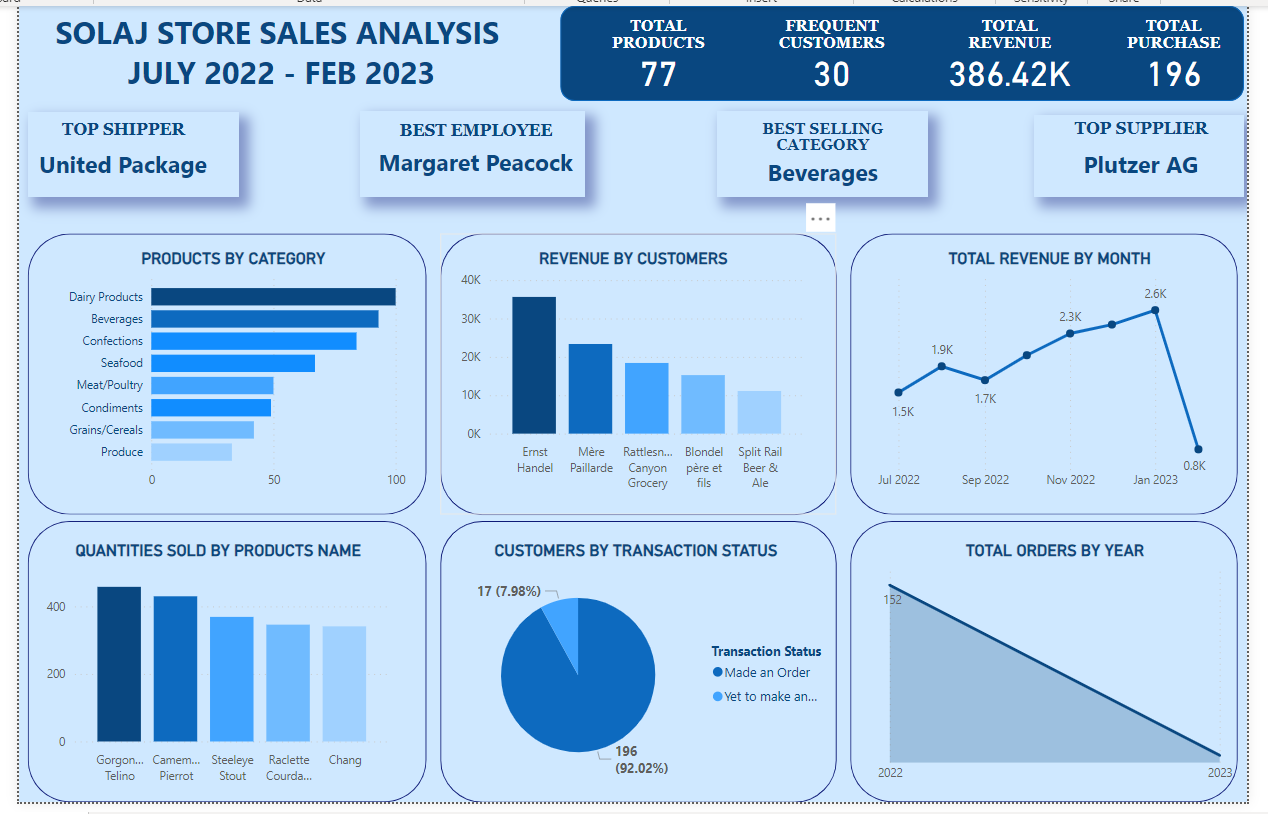

The page's visual inventory and layout, read from the dashboard file:
{"tool":"powerbi","page":{"name":"Page 1","canvas":[1280,830],"ordinal":0},"visuals":[{"type":"shape","box":[564.2,0,712.7,99],"z":0},{"type":"card","title":"TOTAL PRODUCTS","fields":{"Values":["Total_products.Total Products"]},"box":[600.5,12.1,131.7,77.3],"z":1000},{"type":"card","title":"TOTAL REVENUE","fields":{"Values":["Total_revenue.Total Revenue"]},"box":[960.5,12.1,145,77.3],"z":2000},{"type":"clusteredBarChart","title":"PRODUCTS BY CATEGORY","fields":{"Category":["products by category.Categories"],"Y":["products by category.No. of Products"]},"box":[39,253.2,368.7,260.2],"z":3000},{"type":"card","title":"TOTAL PURCHASE","fields":{"Values":["Total Purchase made.Total No. of Purchase"]},"box":[1142.9,12.1,122,77.3],"z":4000},{"type":"stackedAreaChart","title":"TOTAL ORDERS BY YEAR","fields":{"Category":["Orders by Year.Years"],"Y":["Orders by Year.No. of Orders"]},"box":[890.4,557.9,379.8,260.2],"z":5000},{"type":"pieChart","title":"CUSTOMERS BY TRANSACTION STATUS","fields":{"Category":["Transaction Status by Customer.Transaction_Status"],"Y":["Transaction Status by Customer.No. of Customers"]},"box":[439.1,557.7,407.8,260.6],"z":6000},{"type":"columnChart","title":"REVENUE BY CUSTOMERS","fields":{"Category":["Top 5 Customers.Customer Name"],"Y":["Top 5 Customers.Total Amount of Purchase"]},"box":[456.3,253.2,368.7,260.2],"z":7000},{"type":"columnChart","title":"QUANTITIES SOLD BY PRODUCTS NAME","fields":{"Category":["Best Seller by Quantity.Product Name"],"Y":["Best Seller by Quantity.Quantities Sold"]},"box":[23.7,557.9,368.7,260.2],"z":8000},{"type":"lineChart","title":"TOTAL REVENUE BY MONTH","fields":{"Category":["Transaction Value Per Month.Month-Year.Variation.Date Hierarchy.Year","Transaction Value Per Month.Month-Year.Variation.Date Hierarchy.Quarter","Transaction Value Per Month.Month-Year.Variation.Date Hierarchy.Month","Transaction Value Per Month.Month-Year.Variation.Date Hierarchy.Day"],"Y":["Transaction Value Per Month.Total Amount"]},"box":[890.4,253.2,368.7,260.2],"z":9000},{"type":"card","title":"FREQUENT CUSTOMERS","fields":{"Values":["Customers with more than 2 orders.Total Customers Purchased More Than Twice"]},"box":[769.6,12.1,154.6,77.3],"z":10000},{"type":"card","title":"BEST EMPLOYEE","fields":{"Values":["Most Successful Employee.Employee Name"]},"box":[361.7,119.7,228.2,68.2],"z":11000},{"type":"card","title":"BEST SELLING CATEGORY","fields":{"Values":["Best selling Category.Category Name"]},"box":[733.2,118.3,208.7,76.5],"z":12000},{"type":"card","title":"TOP SHIPPER","fields":{"Values":["Most used shipper.ShipperName"]},"box":[9.7,118.3,199,75.1],"z":13000},{"type":"card","title":"TOP SUPPLIER","fields":{"Values":["Most used supplier.Supplier Name"]},"box":[1075.5,116.9,189.2,77.9],"z":14000},{"type":"textbox","box":[0,0,547.3,99],"z":15000},{"type":"shape","box":[9.1,110.8,220.2,88.6],"z":16000},{"type":"shape","box":[355.7,109.5,234.5,89.9],"z":17000},{"type":"shape","box":[727.1,109.5,220.2,89.9],"z":18000},{"type":"shape","box":[1058,113.4,218.9,86],"z":19000},{"type":"shape","box":[9.1,237.1,415.7,293.2],"z":20000},{"type":"shape","box":[439,236.5,413.2,293.6],"z":21000},{"type":"shape","box":[866.5,237.1,403.9,293.2],"z":22000},{"type":"shape","box":[9.1,536.8,415.7,293.2],"z":23000},{"type":"shape","box":[439,537,413.2,293.6],"z":24000},{"type":"shape","box":[866.5,536.8,403.9,293.2],"z":25000}]}

Visuals, with their boxes in screenshot pixels (x1, y1, x2, y2):
shape: x1=557 y1=3 x2=1247 y2=99
"TOTAL PRODUCTS" card: x1=592 y1=15 x2=719 y2=90
"TOTAL REVENUE" card: x1=941 y1=15 x2=1081 y2=90
"PRODUCTS BY CATEGORY" clusteredBarChart: x1=48 y1=249 x2=405 y2=501
"TOTAL PURCHASE" card: x1=1117 y1=15 x2=1236 y2=90
"TOTAL ORDERS BY YEAR" stackedAreaChart: x1=873 y1=544 x2=1241 y2=796
"CUSTOMERS BY TRANSACTION STATUS" pieChart: x1=435 y1=544 x2=831 y2=796
"REVENUE BY CUSTOMERS" columnChart: x1=452 y1=249 x2=809 y2=501
"QUANTITIES SOLD BY PRODUCTS NAME" columnChart: x1=33 y1=544 x2=390 y2=796
"TOTAL REVENUE BY MONTH" lineChart: x1=873 y1=249 x2=1230 y2=501
"FREQUENT CUSTOMERS" card: x1=756 y1=15 x2=906 y2=90
"BEST EMPLOYEE" card: x1=360 y1=119 x2=582 y2=185
"BEST SELLING CATEGORY" card: x1=720 y1=118 x2=923 y2=192
"TOP SHIPPER" card: x1=19 y1=118 x2=212 y2=191
"TOP SUPPLIER" card: x1=1052 y1=117 x2=1236 y2=192
textbox: x1=10 y1=3 x2=540 y2=99
shape: x1=19 y1=111 x2=232 y2=197
shape: x1=355 y1=109 x2=582 y2=197
shape: x1=715 y1=109 x2=928 y2=197
shape: x1=1035 y1=113 x2=1247 y2=197
shape: x1=19 y1=233 x2=422 y2=517
shape: x1=435 y1=232 x2=836 y2=517
shape: x1=850 y1=233 x2=1241 y2=517
shape: x1=19 y1=524 x2=422 y2=808
shape: x1=435 y1=524 x2=836 y2=808
shape: x1=850 y1=524 x2=1241 y2=808
